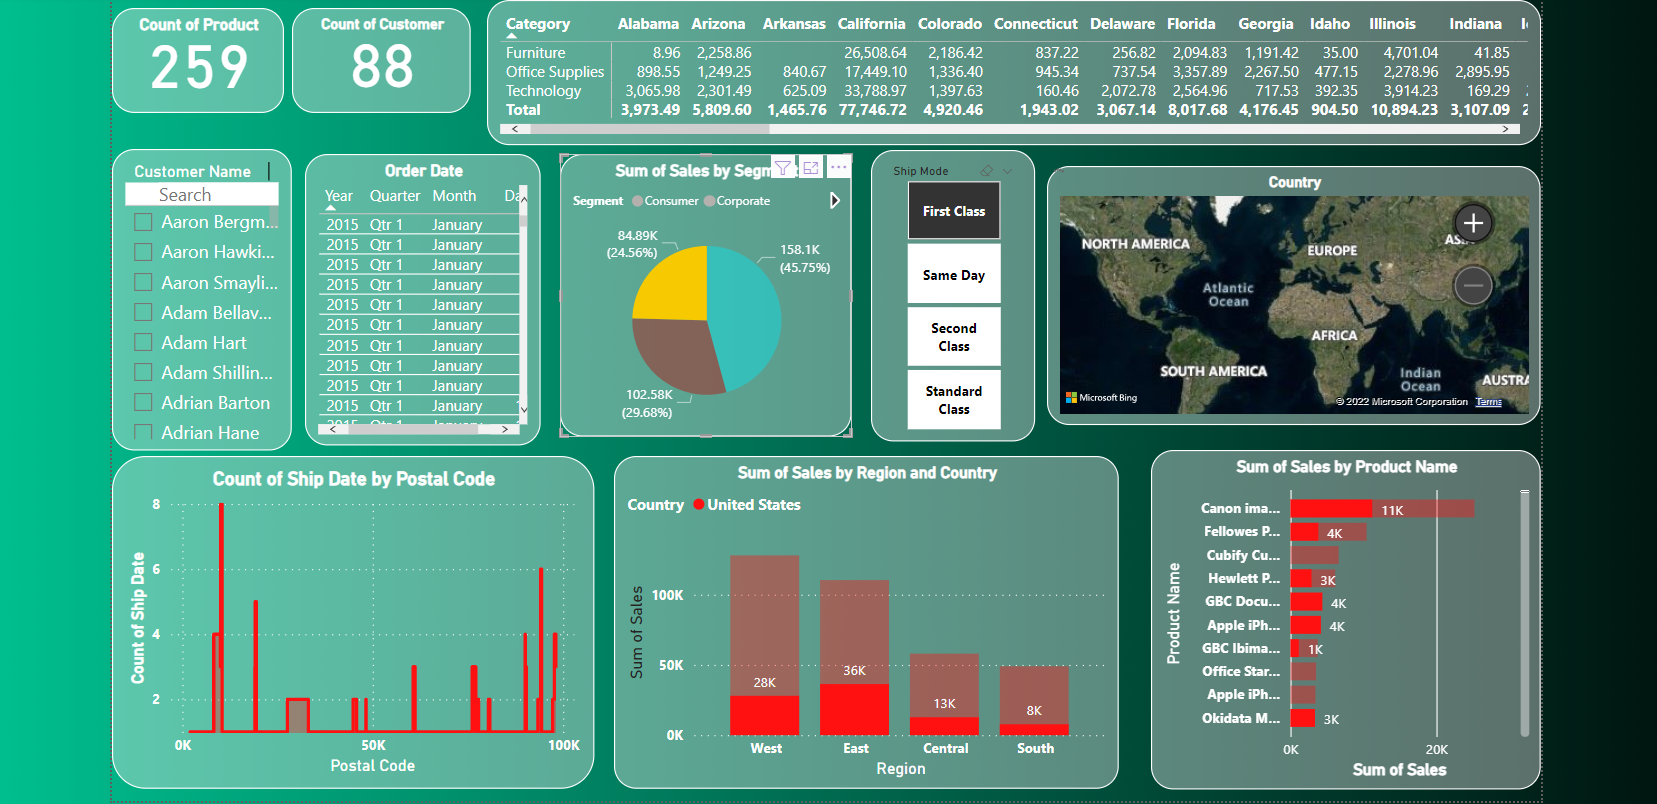

The dashboard page shown, as its layout file describes it:
{"tool":"powerbi","page":{"name":"Page 1","canvas":[1280,720],"ordinal":0},"visuals":[{"type":"card","title":"Count of Customer","fields":{"Values":["train.Customer ID"]},"box":[161.2,9.9,160.3,94],"z":0},{"type":"card","title":"Count of Product","fields":{"Values":["train.Product ID"]},"box":[0,9.9,154,94],"z":1000},{"type":"stackedAreaChart","fields":{"Y":["train.Ship Date"],"Category":["train.Postal Code"]},"box":[0,411,431.6,298.2],"z":2000},{"type":"clusteredColumnChart","fields":{"Y":["train.Sales"],"Series":["train.Country"],"Category":["train.Region"]},"box":[449.6,411,452.2,298.2],"z":3000},{"type":"slicer","fields":{"Values":["train.Customer Name"]},"box":[0,129.9,161.2,269.6],"z":4000},{"type":"pivotTable","fields":{"Values":["train.Sales"],"Rows":["train.Category"],"Columns":["train.State"]},"box":[335.8,2.7,943.9,129.9],"z":5000},{"type":"slicer","fields":{"Values":["train.Ship Mode"]},"box":[679.7,137,146.9,261.5],"z":6000},{"type":"pieChart","fields":{"Category":["train.Segment"],"Y":["train.Sales"]},"box":[401.2,140.6,261.5,253.4],"z":7000},{"type":"tableEx","title":"Order Date","fields":{"Values":["train.Order Date.Variation.Date Hierarchy.Year","train.Order Date.Variation.Date Hierarchy.Quarter","train.Order Date.Variation.Date Hierarchy.Month","train.Order Date.Variation.Date Hierarchy.Day"]},"box":[172.8,140.6,211.3,261.5],"z":8000},{"type":"map","fields":{"Category":["train.Country"]},"box":[837.3,151.3,442.4,231.9],"z":9000},{"type":"barChart","fields":{"Category":["train.Product Name"],"Y":["train.Sales"]},"box":[930.4,405.7,349.3,303.6],"z":10000}]}

Visuals, with their boxes in screenshot pixels (x1, y1, x2, y2):
"Count of Customer" card: <box>302,11,479,114</box>
"Count of Product" card: <box>125,11,294,114</box>
stackedAreaChart - train.Ship Date x train.Postal Code: <box>125,452,600,780</box>
clusteredColumnChart - train.Sales x train.Country: <box>619,452,1117,780</box>
slicer - train.Customer Name: <box>125,143,302,439</box>
pivotTable - train.Sales x train.Category: <box>494,3,1532,146</box>
slicer - train.Ship Mode: <box>872,151,1034,438</box>
pieChart - train.Segment x train.Sales: <box>566,155,854,433</box>
"Order Date" tableEx: <box>315,155,547,442</box>
map - train.Country: <box>1046,166,1532,421</box>
barChart - train.Product Name x train.Sales: <box>1148,446,1532,780</box>
